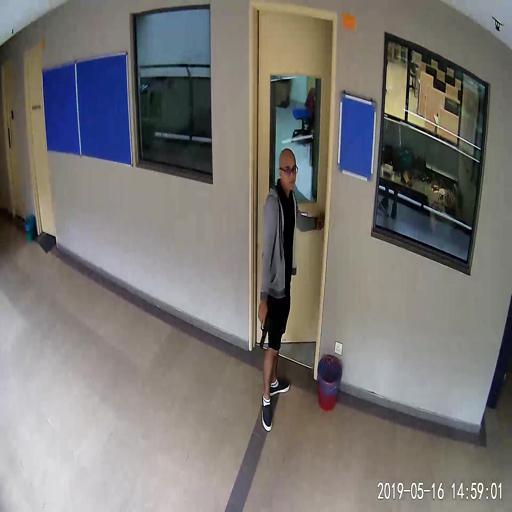pistol: (257, 310, 270, 349)
